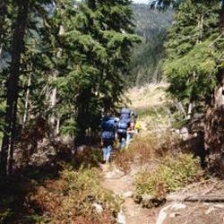neutral: (3, 2, 224, 212)
